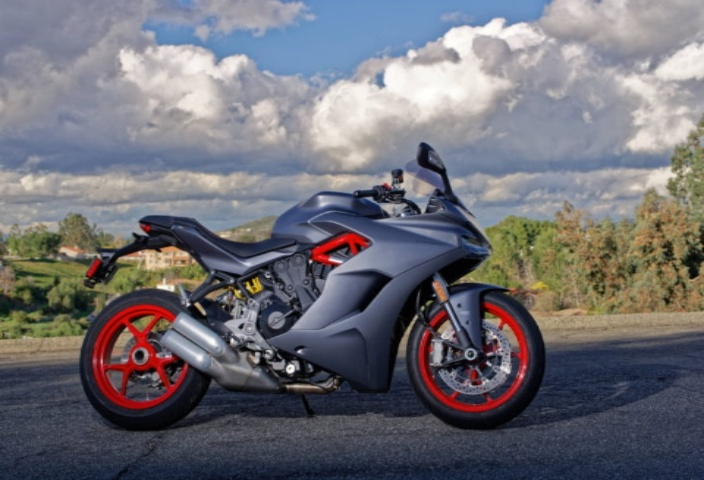motorcycle: (55, 144, 575, 441)
